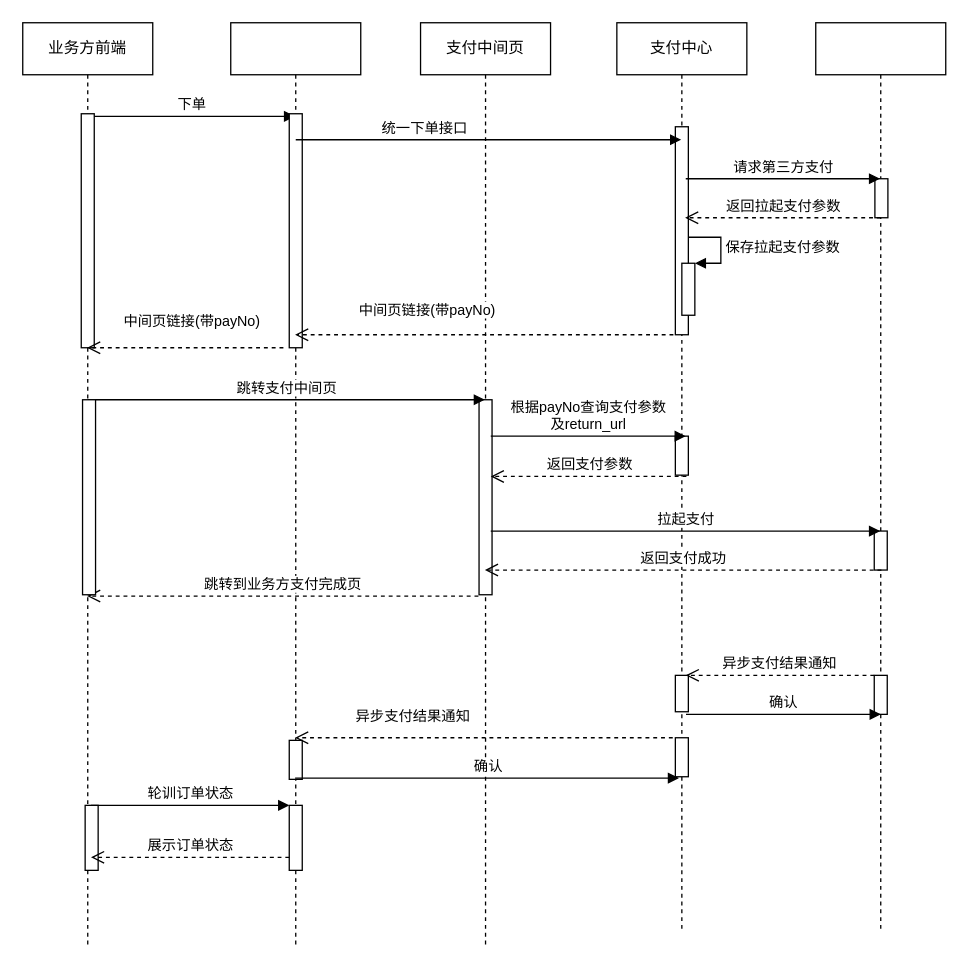
This 968x968 diagram has some shape labels left out. The box of each missing label's shape, as (x1, y1, x2, y2) in pixels:
业务方后端: (229, 21, 361, 946)
第三方支付: (814, 21, 946, 933)
